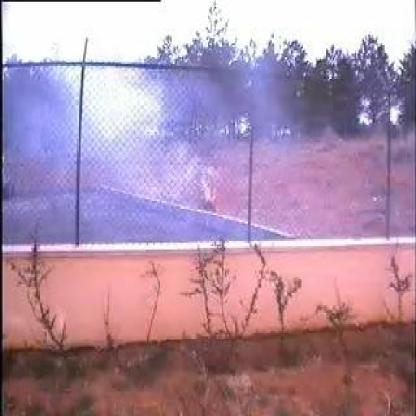-: (31, 65, 232, 233)
